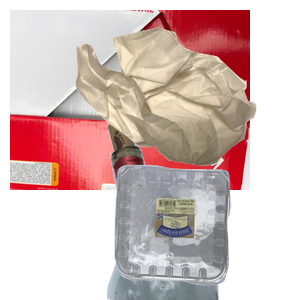cardboard: (10, 10, 250, 190)
glass: (83, 120, 294, 300)
plastic: (112, 162, 300, 300)
trash: (73, 25, 300, 183)
